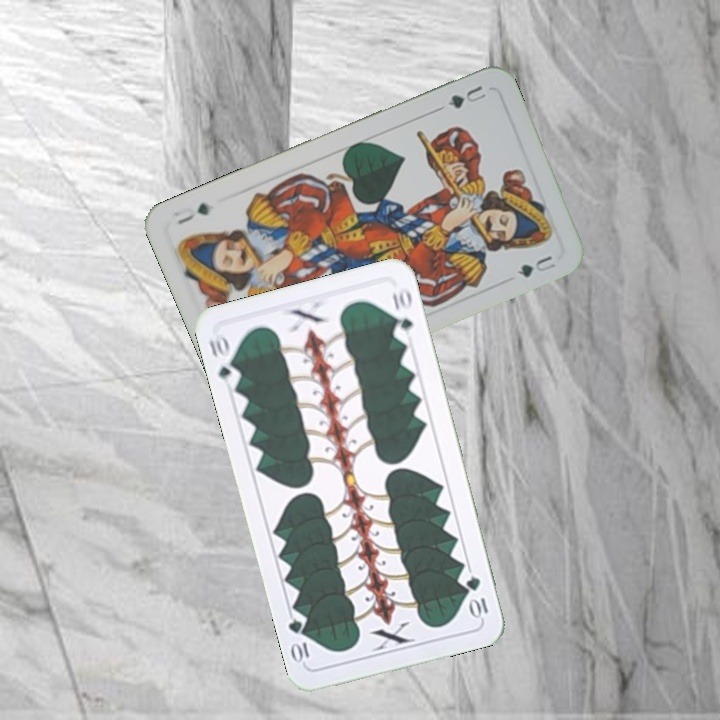G10: (205, 329, 243, 389), (462, 572, 491, 621)
GU: (443, 81, 489, 111)
